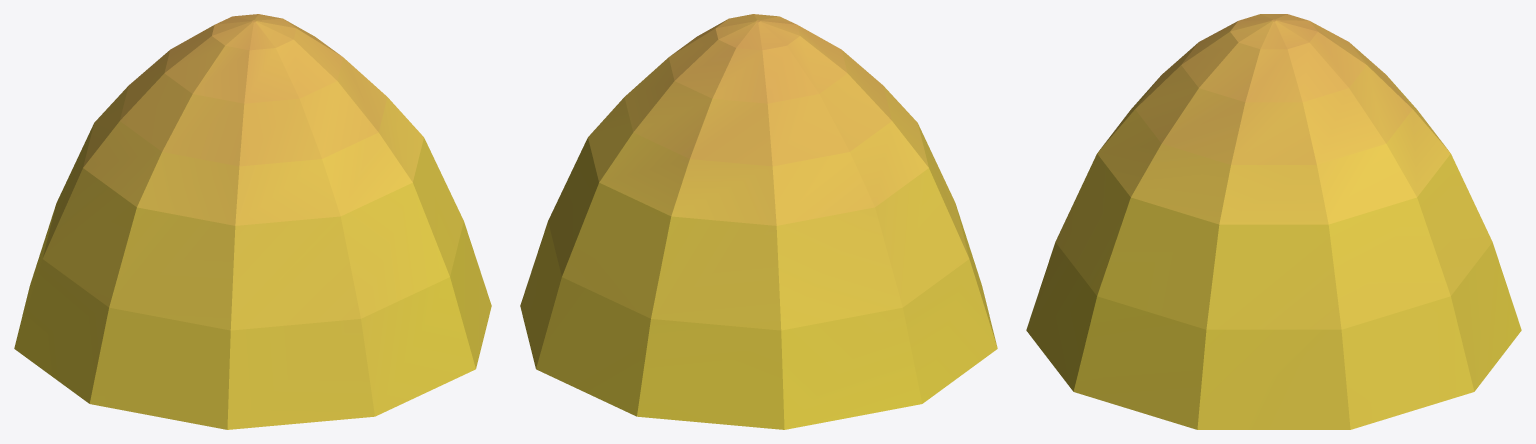
The model's file is haystack_single.fbx.
3 renders of one model, left to right at view 1: azimuth 30°, elevation 25°; view 2: azimuth 150°, elevation 25°; view 3: azimuth 270°, elevation 25°, orthographic.
Visible parts, largest first — view 1: hay; view 2: hay; view 3: hay.
Boxes of the visible parts, bbox=[...] form: hay: bbox=[14, 14, 491, 429]; hay: bbox=[520, 14, 997, 429]; hay: bbox=[1026, 14, 1521, 429].
Bounding box in the file's own units: 190 × 138 × 200.
